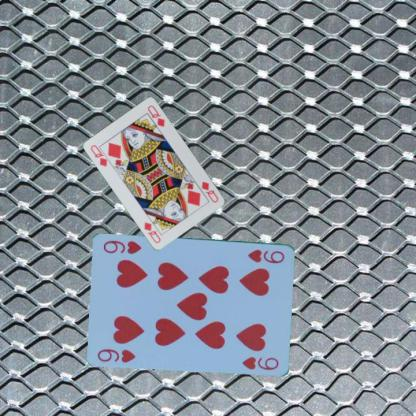9h: (95, 346, 137, 364), (246, 246, 286, 264)
Qd: (88, 142, 113, 168), (199, 178, 220, 204)
